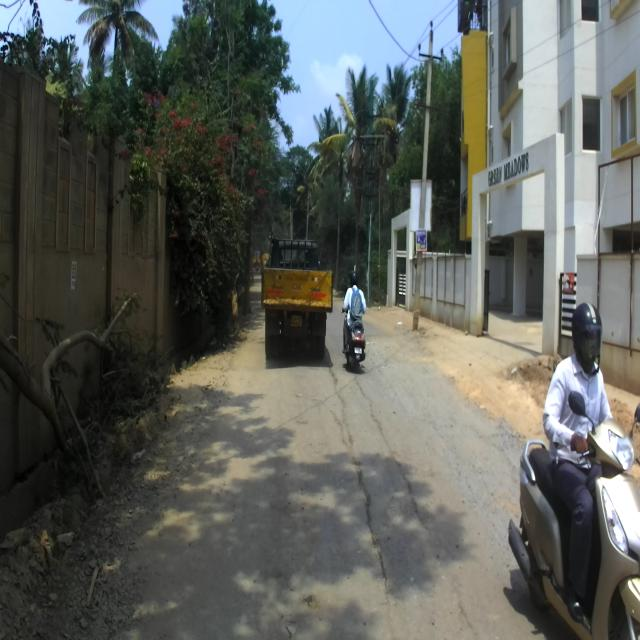motorcycle ahead at: (508, 301, 640, 640), (340, 273, 370, 368)
truck ahead at: (256, 234, 338, 356)
